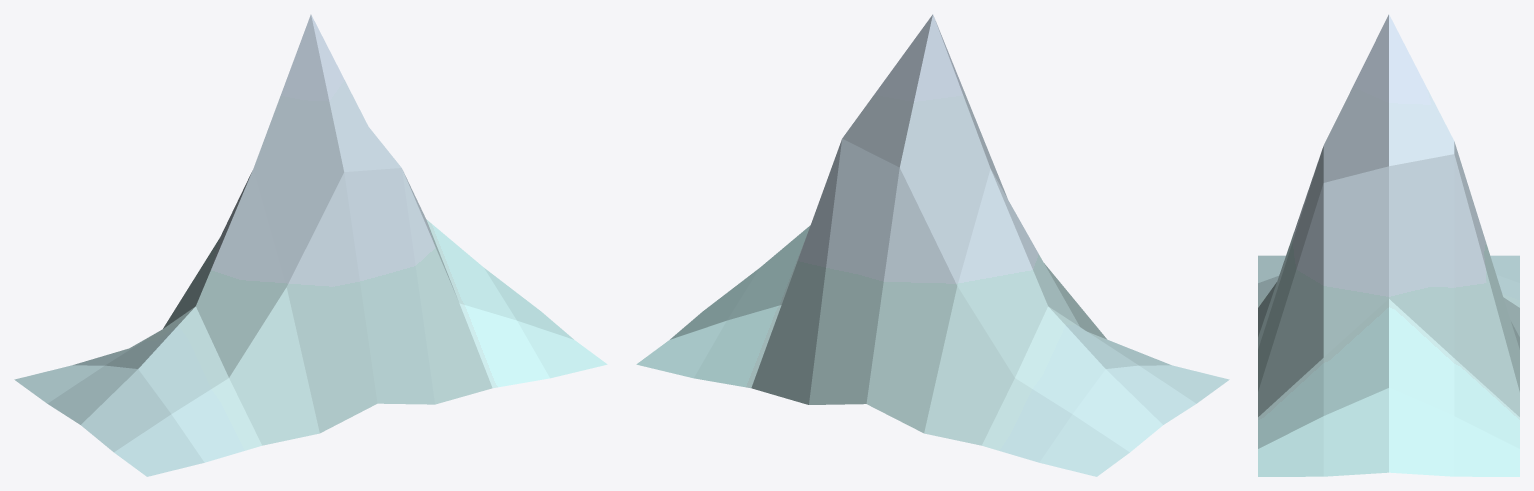
Rendered from SS_Glazier3.fbx.
3 renders of one model, left to right at view 1: azimuth 30°, elevation 25°; view 2: azimuth 150°, elevation 25°; view 3: azimuth 270°, elevation 25°, orthographic.
Visible parts, largest first — view 1: Glazier3; view 2: Glazier3; view 3: Glazier3.
Boxes of the visible parts, left/top/right/bottom form: Glazier3: left=14, top=14, right=607, bottom=476; Glazier3: left=636, top=14, right=1229, bottom=476; Glazier3: left=1258, top=14, right=1519, bottom=476.
Bounding box in the file's own units: 6.29 × 4.67 × 3.14.
